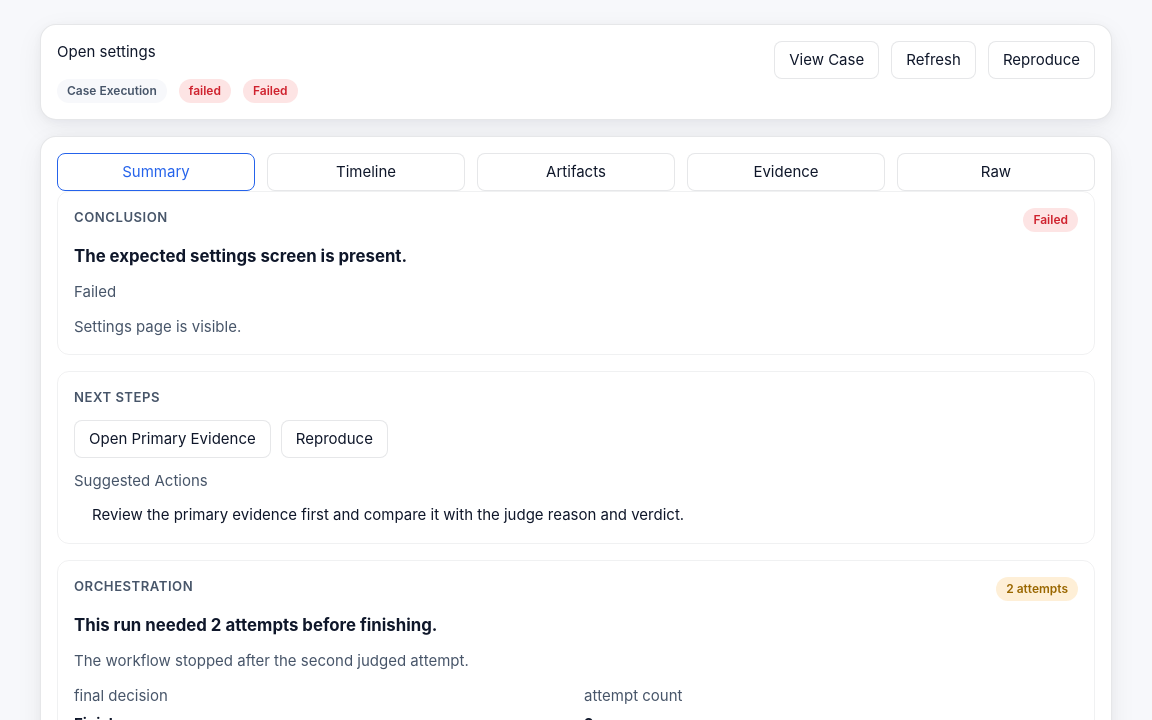
RunDetailPage › opens non-screenshot artifact preview in a modal
Click the button "Artifacts": click(576, 172) x1=477 y1=153 x2=675 y2=191
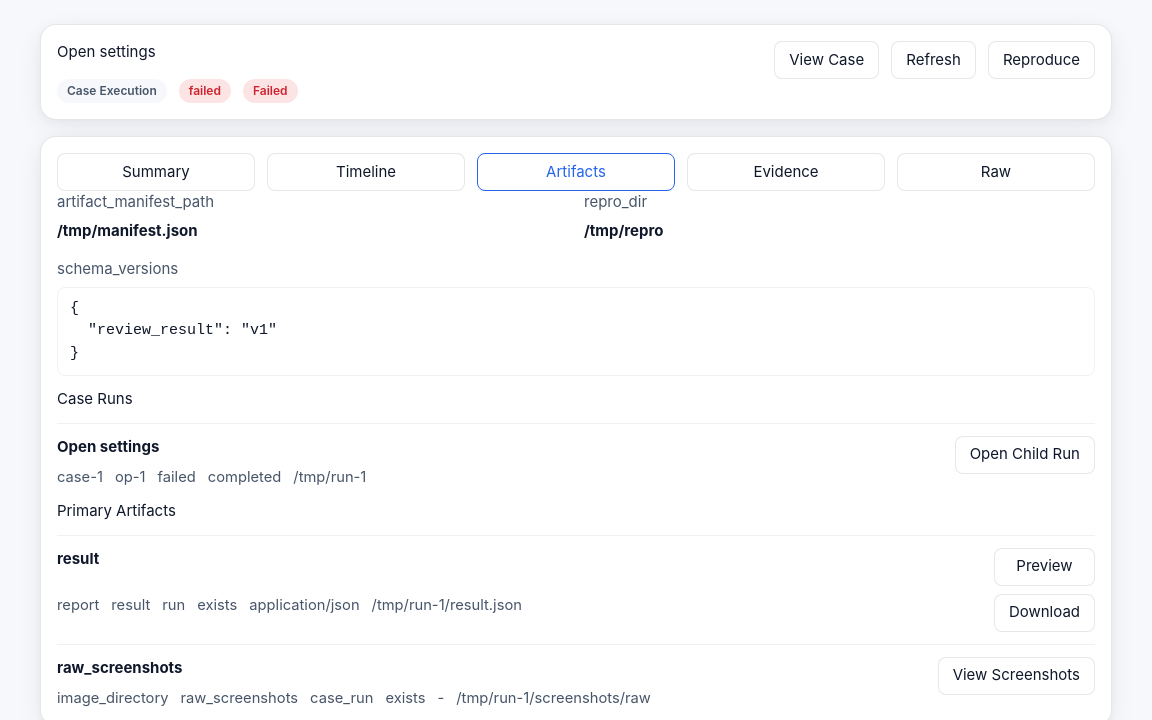
Click the button "Preview": click(1044, 567) x1=994 y1=548 x2=1095 y2=586
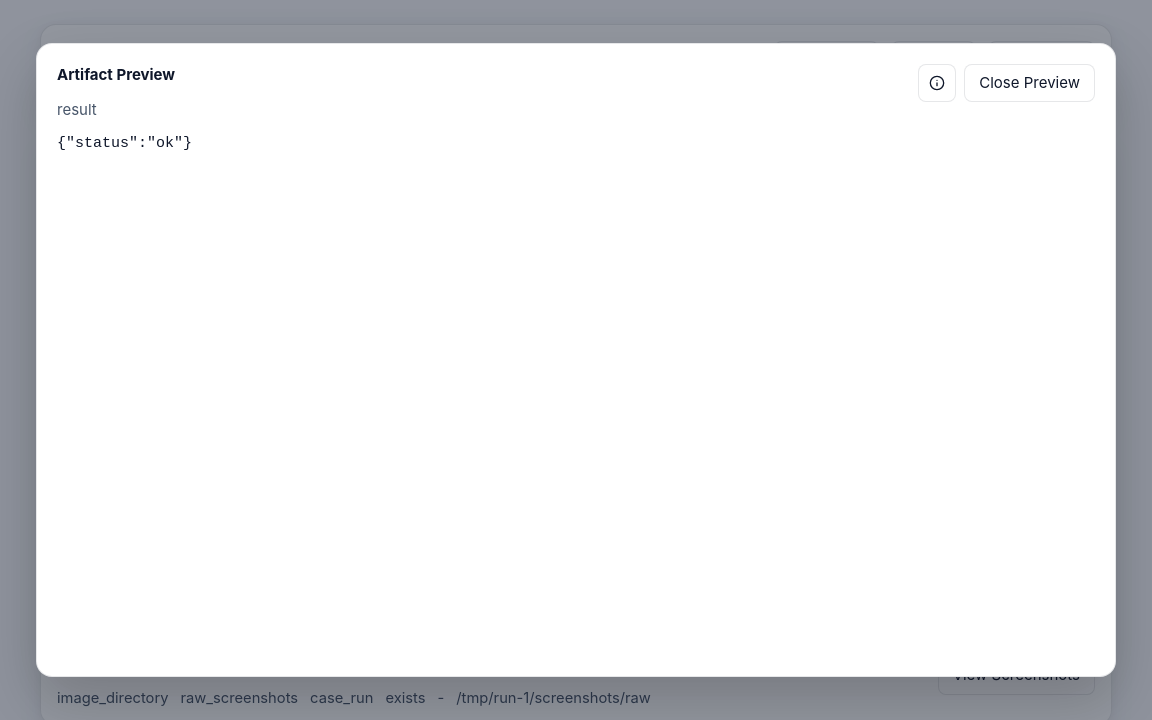
expect the element with test id "artifact-preview-modal" does not show "/tmp/run-1/result.json": met
expect the dialog with test id "artifact-preview-modal" is shown: met
expect the dialog with test id "artifact-preview-modal" shows "Artifact Preview": met, box x1=57 y1=65 x2=175 y2=84
Click the button with test id "artifact-preview-info-toggle": click(937, 83) x1=918 y1=64 x2=956 y2=102
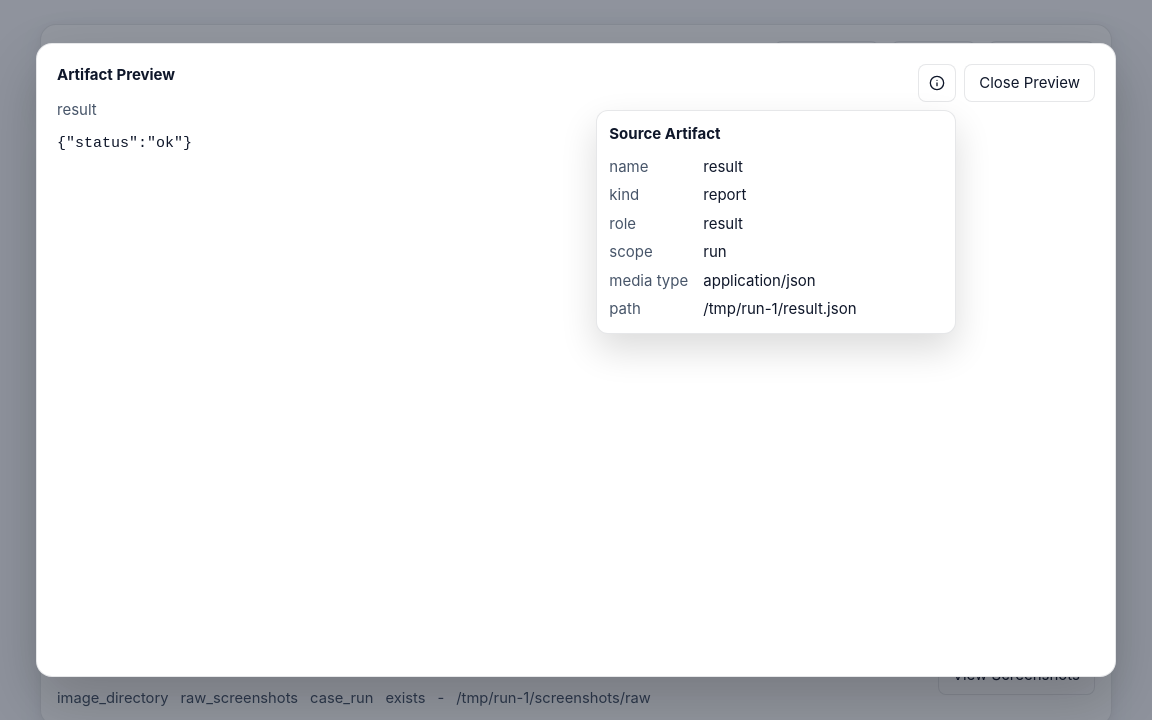
expect the text "{\"status\":\"ok\"}" is shown: met, box x1=57 y1=135 x2=192 y2=152
expect the dialog with test id "artifact-preview-modal" shows "/tmp/run-1/result.json": met, box x1=703 y1=299 x2=857 y2=318
